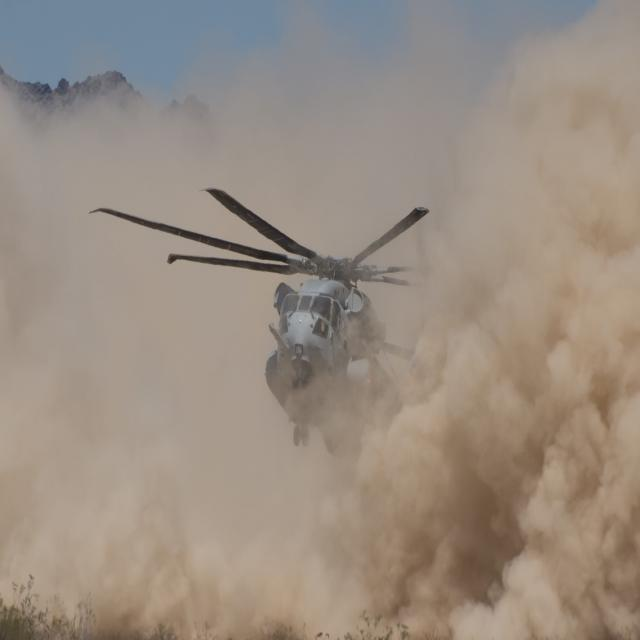helicopter: (100, 185, 425, 445)
